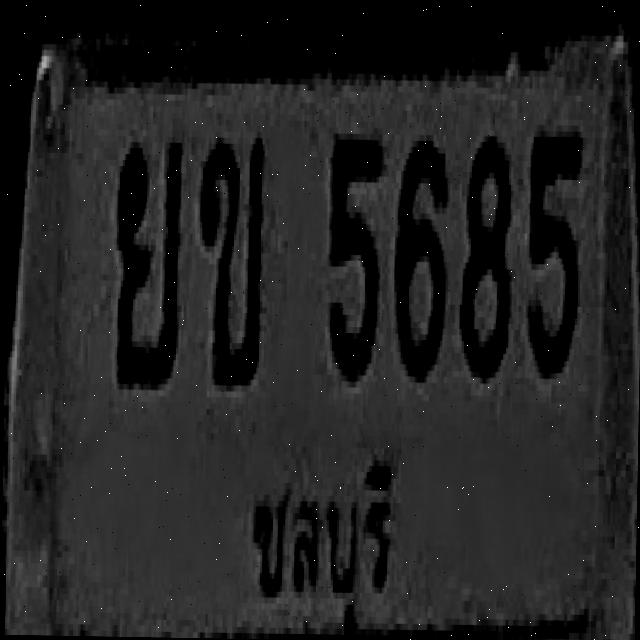11KhorKhai: (197, 134, 264, 382)
43YorYak: (114, 135, 182, 384)
5: (525, 127, 581, 376), (326, 130, 382, 378)
6: (394, 134, 446, 376)
8: (458, 136, 511, 378)
Chonburi: (245, 424, 397, 628)
